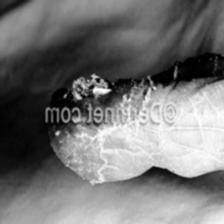Non-Cancerous Skin Condition: (182, 86, 224, 168), (51, 70, 141, 107), (80, 123, 132, 181), (152, 57, 224, 81)
